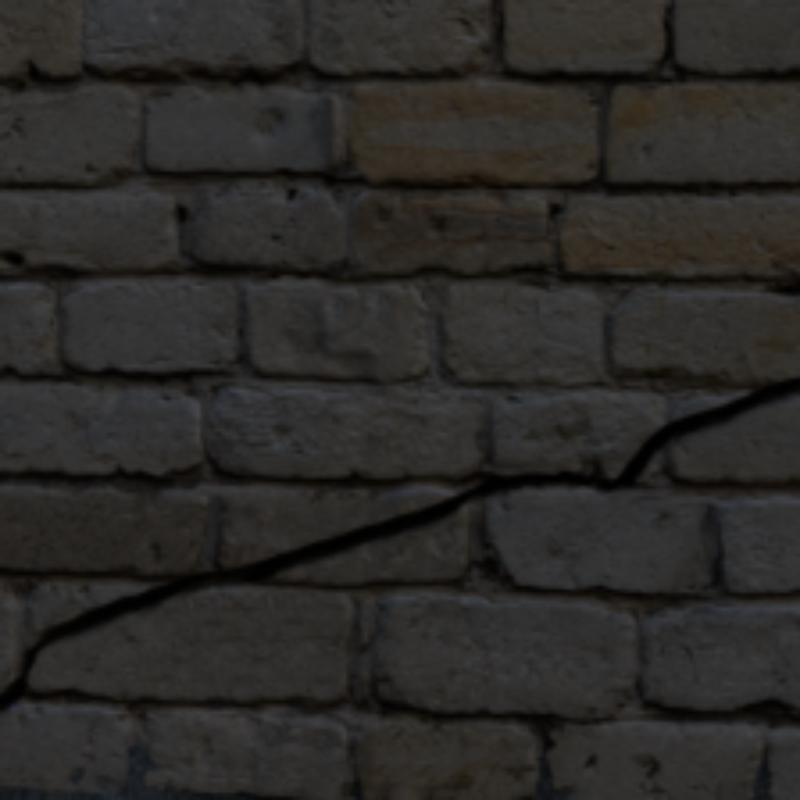crack: (0, 379, 796, 707)
